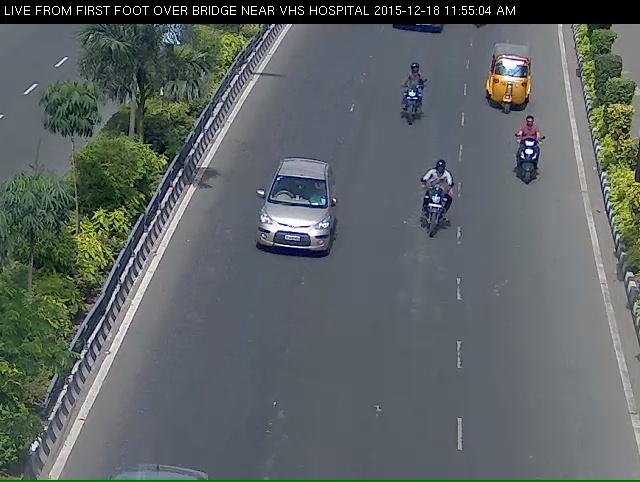Car: (240, 170, 341, 287), (478, 48, 536, 125)
Person: (407, 176, 457, 263), (513, 129, 547, 203), (394, 70, 429, 135)
